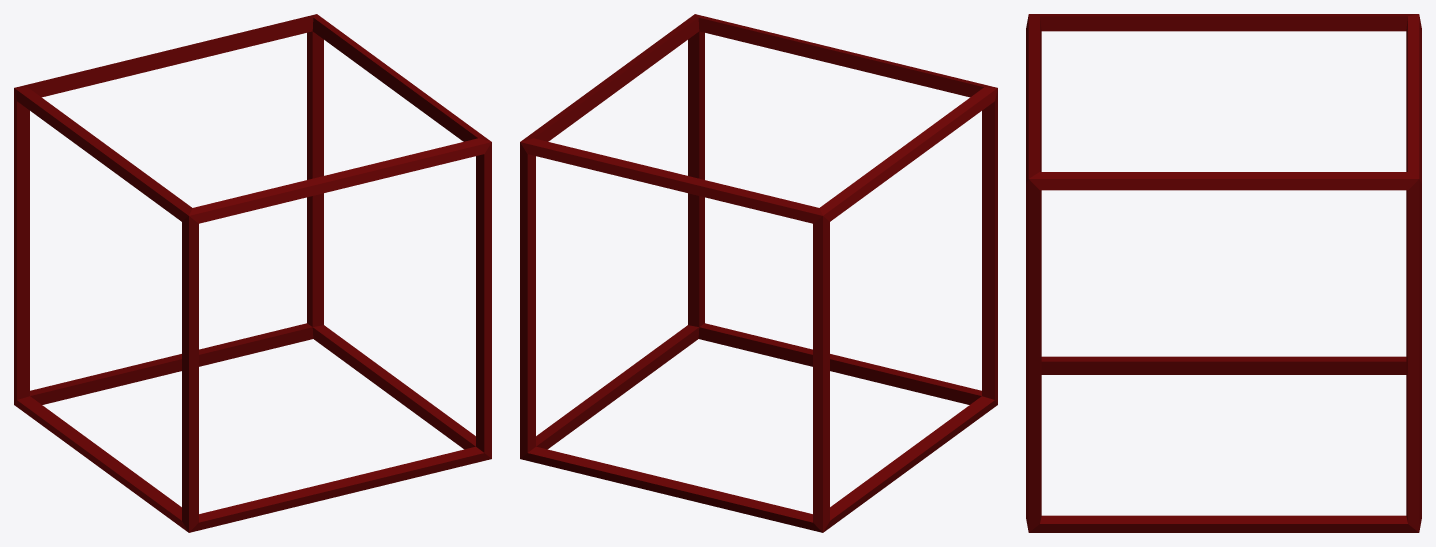
The model's file is cube_wireframe.obj.
3 renders of one model, left to right at view 1: azimuth 30°, elevation 25°; view 2: azimuth 150°, elevation 25°; view 3: azimuth 270°, elevation 25°, orthographic. The views are drawn at different scales.
Bounding box in the file's own units: 1.05 × 1.05 × 1.05.
